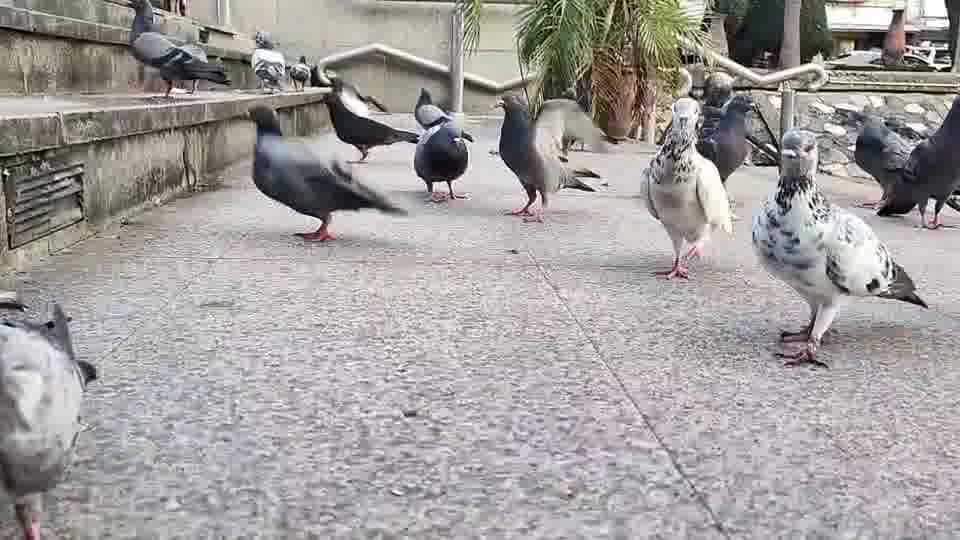Pigeon: (750, 127, 929, 369), (0, 291, 98, 538), (246, 101, 408, 242), (638, 96, 734, 280), (492, 92, 600, 223), (877, 94, 959, 229), (125, 0, 232, 98), (322, 77, 420, 163), (847, 109, 919, 217), (412, 87, 475, 202), (532, 94, 624, 161), (158, 47, 231, 97), (250, 30, 288, 93), (287, 55, 311, 91)
